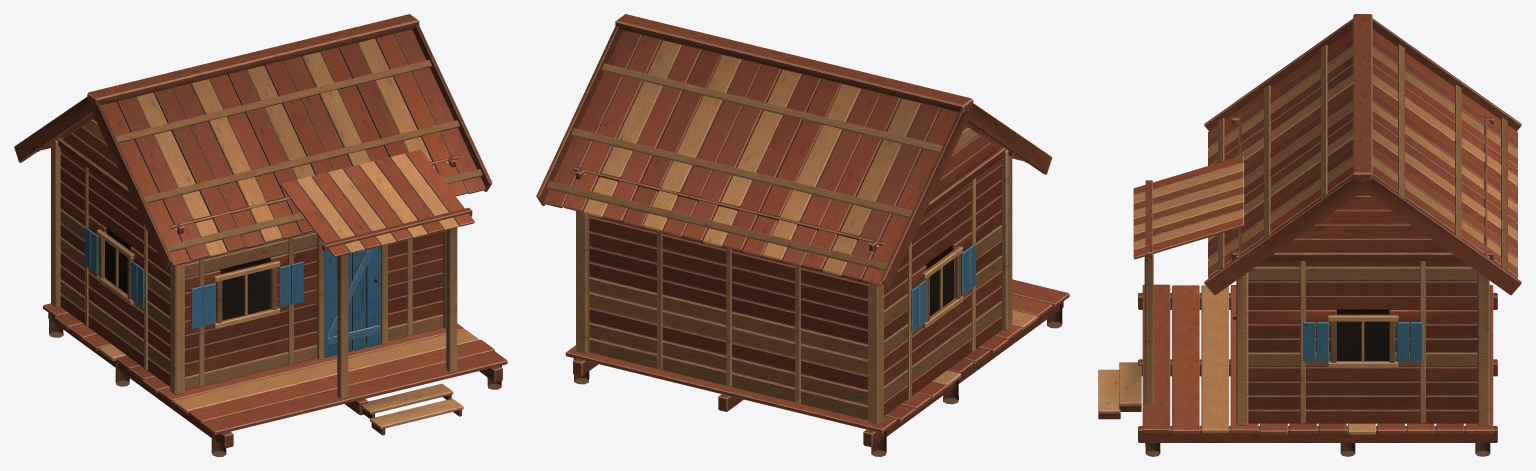
File: plank_house.glb
3 renders of one model, left to right at view 1: azimuth 30°, elevation 25°; view 2: azimuth 150°, elevation 25°; view 3: azimuth 270°, elevation 25°, orthographic. The views are drawn at different scales.
Parts seen in each view (by area): view 1: walls, roof; view 2: walls, roof; view 3: walls, roof.
Boxes of the visible parts, x1,y1,x2,y2 form: walls: [43, 43, 507, 456]; roof: [14, 14, 492, 269]; walls: [565, 45, 1069, 456]; roof: [536, 14, 1051, 289]; walls: [1098, 114, 1497, 456]; roof: [1133, 14, 1521, 295].
Bounding box in the file's own units: 5.05 × 4.3 × 5.65.
Materials: 3 (2 with a texture image).
